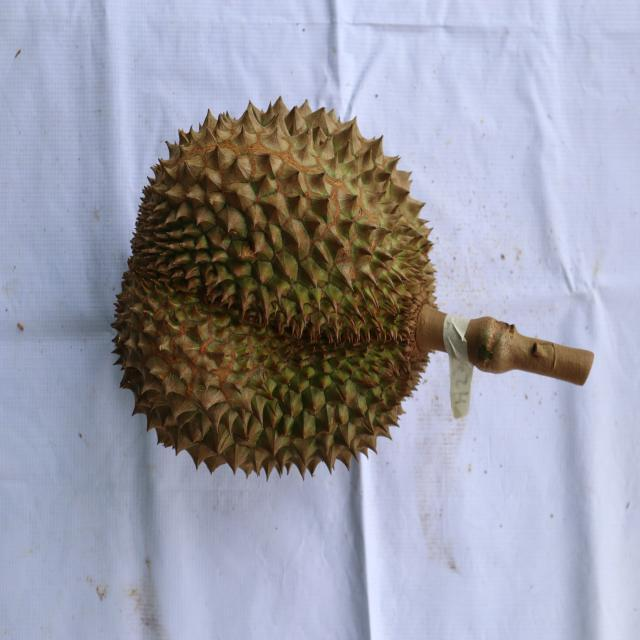mature: (112, 91, 444, 483)
